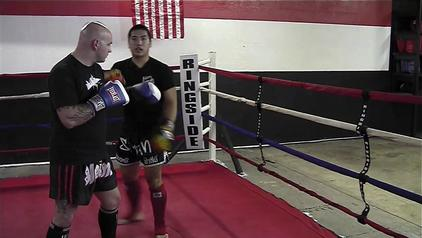crouch: (358, 166, 370, 193)
stay: (358, 166, 370, 193)
